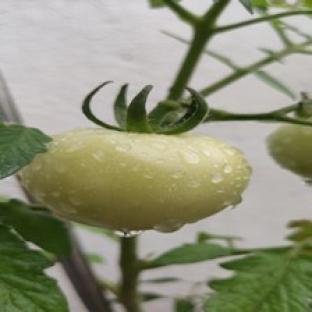Tomato: (21, 129, 250, 231), (268, 126, 311, 179)
